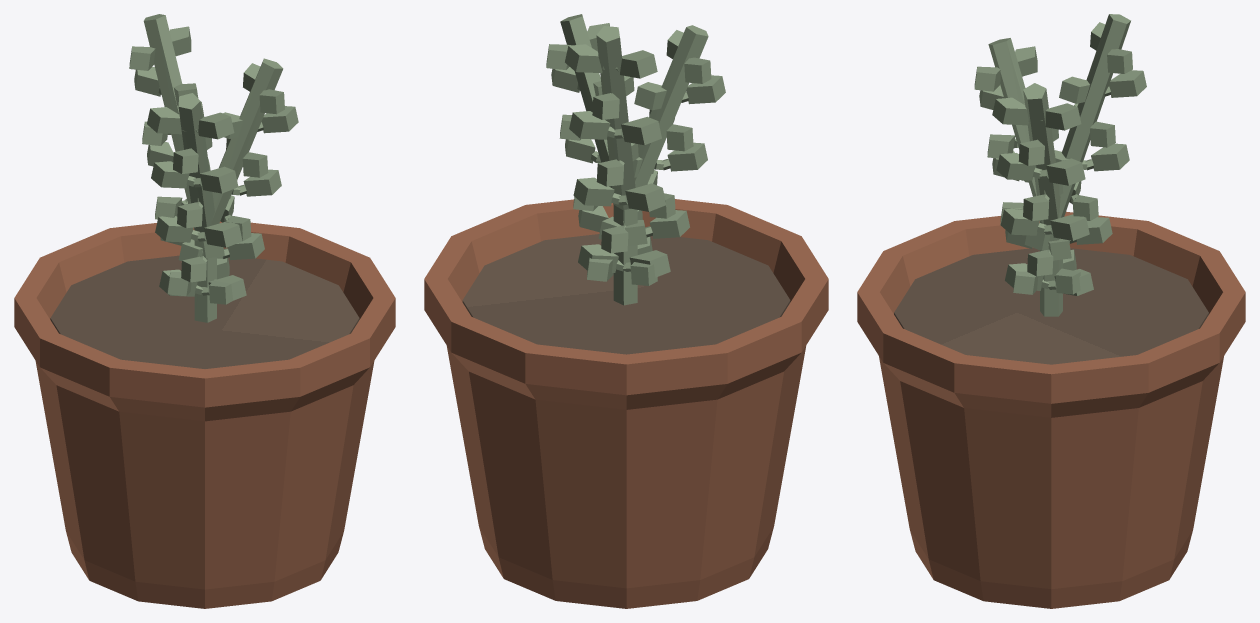
File: new-perforata.glb
The picture shows the model from 3 angles, left to right: view 1: azimuth 30°, elevation 25°; view 2: azimuth 150°, elevation 25°; view 3: azimuth 270°, elevation 25°; orthographic projection. The views are drawn at different scales.
Visible parts, largest first — view 1: new-perforata/review-terra-vessel, new-perforata/review-rooted-soil, new-perforata/stem-001, new-perforata/stem-059, new-perforata/stem-030, new-perforata/leaf-079, new-perforata/leaf-071, new-perforata/leaf-085, new-perforata/leaf-087, new-perforata/leaf-077, new-perforata/leaf-015, new-perforata/leaf-069 (+11 smaller); view 2: new-perforata/review-terra-vessel, new-perforata/review-rooted-soil, new-perforata/stem-059, new-perforata/stem-030, new-perforata/stem-001, new-perforata/leaf-040, new-perforata/leaf-048, new-perforata/leaf-042, new-perforata/leaf-050, new-perforata/leaf-056, new-perforata/leaf-058, new-perforata/leaf-073 (+14 smaller); view 3: new-perforata/review-terra-vessel, new-perforata/review-rooted-soil, new-perforata/stem-030, new-perforata/stem-001, new-perforata/stem-059, new-perforata/leaf-044, new-perforata/leaf-021, new-perforata/leaf-052, new-perforata/leaf-027, new-perforata/leaf-013, new-perforata/leaf-029, new-perforata/leaf-019 (+13 smaller).
Boxes of the visible parts, box(x1,y1,x2,y2) form: new-perforata/review-terra-vessel: box(14, 221, 395, 608); new-perforata/review-rooted-soil: box(50, 255, 359, 368); new-perforata/stem-001: box(194, 58, 283, 322); new-perforata/stem-059: box(178, 93, 216, 322); new-perforata/stem-030: box(143, 14, 202, 317); new-perforata/leaf-079: box(200, 166, 238, 193); new-perforata/leaf-071: box(204, 221, 242, 247); new-perforata/leaf-085: box(147, 107, 181, 134); new-perforata/leaf-087: box(198, 112, 234, 139); new-perforata/leaf-077: box(151, 161, 189, 188); new-perforata/leaf-015: box(243, 169, 281, 196); new-perforata/leaf-069: box(155, 216, 193, 242); new-perforata/review-terra-vessel: box(424, 199, 828, 608); new-perforata/review-rooted-soil: box(462, 234, 790, 354); new-perforata/stem-059: box(624, 25, 708, 305); new-perforata/stem-030: box(596, 26, 637, 301); new-perforata/stem-001: box(560, 14, 623, 305); new-perforata/leaf-040: box(573, 177, 614, 206); new-perforata/leaf-048: box(569, 111, 610, 139); new-perforata/leaf-042: box(625, 183, 666, 211); new-perforata/leaf-050: box(621, 116, 661, 145); new-perforata/leaf-056: box(565, 44, 602, 73); new-perforata/leaf-058: box(620, 50, 657, 78); new-perforata/leaf-073: box(667, 142, 707, 171); new-perforata/review-terra-vessel: box(857, 211, 1245, 608); new-perforata/review-rooted-soil: box(894, 248, 1208, 364); new-perforata/stem-030: box(1044, 14, 1130, 316); new-perforata/stem-001: box(1023, 83, 1062, 316); new-perforata/stem-059: box(988, 38, 1050, 316); new-perforata/leaf-044: box(1091, 143, 1129, 171); new-perforata/leaf-021: box(1046, 158, 1085, 185); new-perforata/leaf-052: box(1109, 70, 1146, 97); new-perforata/leaf-027: box(992, 97, 1028, 125); new-perforata/leaf-013: box(1050, 214, 1089, 240); new-perforata/leaf-029: box(1045, 103, 1081, 130); new-perforata/leaf-019: box(996, 153, 1035, 180).
Bounding box in the file's own units: 0.19 × 0.2846 × 0.19.
3 materials, 3 textured.
